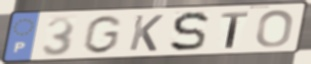3: (41, 15, 78, 57)
G: (81, 14, 125, 55)
K: (127, 14, 165, 53)
O: (254, 8, 296, 49)
S: (168, 10, 211, 53)
T: (219, 11, 250, 50)
